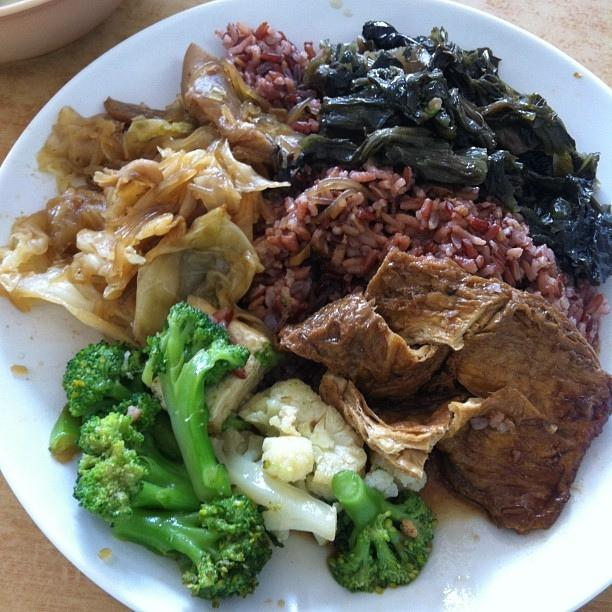broccoli: (142, 302, 250, 503), (113, 493, 284, 608), (74, 413, 204, 527), (326, 468, 437, 594), (62, 340, 150, 422), (49, 402, 83, 464)
cauliflower: (237, 379, 367, 501), (208, 426, 336, 541), (260, 435, 328, 546), (205, 319, 268, 432)
